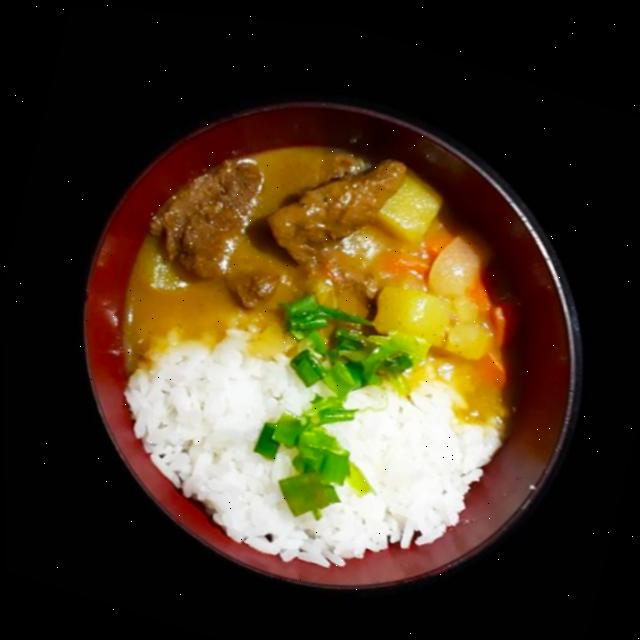Wet: (72, 75, 565, 617)
